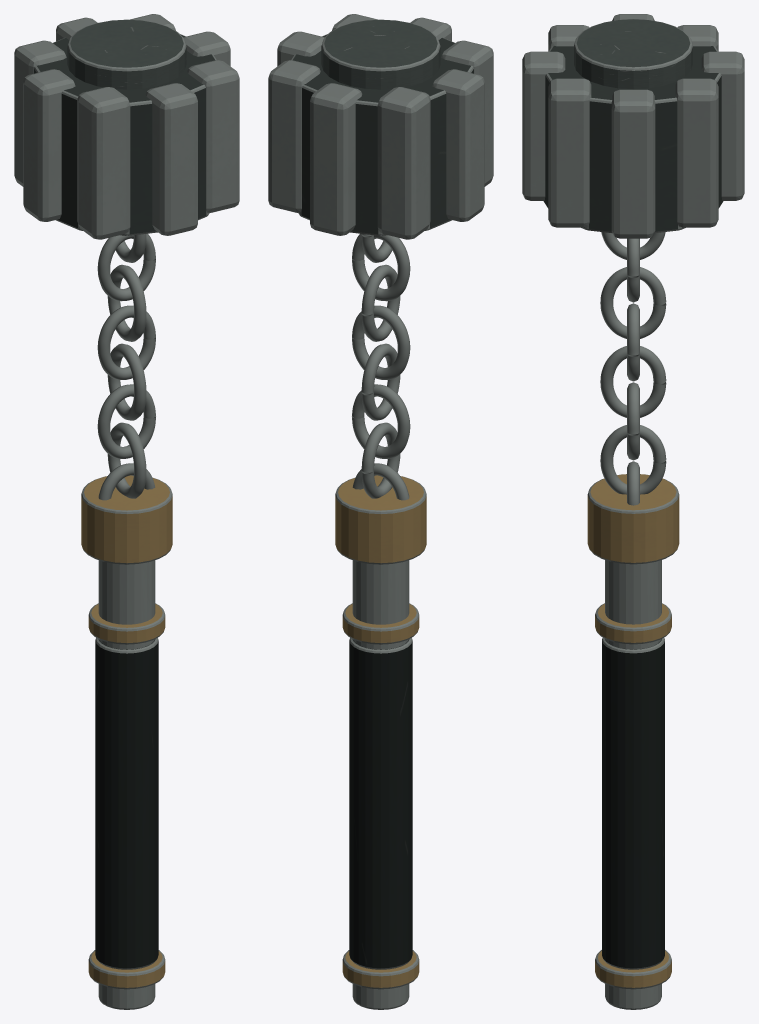
Rendered from flail-t4.glb.
The picture shows the model from 3 angles, left to right: view 1: azimuth 30°, elevation 25°; view 2: azimuth 150°, elevation 25°; view 3: azimuth 270°, elevation 25°; orthographic projection.
Visible parts, largest first — view 1: Continuous two-hand wrap, Flail core, Flail striking rib 5, Flail crown, Flail striking rib 6, Flail hinged collar, Flail striking rib 4, Flail striking rib 7, Steel shaft, Flail striking rib 3, Articulated chain link 2, Articulated chain link 4 (+9 smaller); view 2: Continuous two-hand wrap, Flail core, Flail striking rib 3, Flail crown, Flail striking rib 2, Flail hinged collar, Flail striking rib 4, Flail striking rib 1, Steel shaft, Flail striking rib 5, Articulated chain link 2, Articulated chain link 4 (+9 smaller); view 3: Continuous two-hand wrap, Flail core, Flail crown, Flail hinged collar, Flail striking rib 0, Flail striking rib 1, Flail striking rib 7, Steel shaft, Flail striking rib 2, Flail striking rib 6, Articulated chain link 3, Articulated chain link 5 (+10 smaller).
Boxes of the visible parts, <box> form: Continuous two-hand wrap: <box>95,637,158,969</box>; Flail core: <box>34,34,216,235</box>; Flail striking rib 5: <box>77,87,130,239</box>; Flail crown: <box>67,19,186,89</box>; Flail striking rib 6: <box>145,83,197,235</box>; Flail hinged collar: <box>81,475,172,564</box>; Flail striking rib 4: <box>23,69,75,221</box>; Flail striking rib 7: <box>187,60,239,212</box>; Steel shaft: <box>98,560,155,1009</box>; Flail striking rib 3: <box>14,40,66,186</box>; Articulated chain link 2: <box>97,384,155,458</box>; Articulated chain link 4: <box>97,305,155,379</box>; Continuous two-hand wrap: <box>349,637,412,969</box>; Flail core: <box>291,34,473,235</box>; Flail striking rib 3: <box>377,87,430,239</box>; Flail crown: <box>321,19,440,89</box>; Flail striking rib 2: <box>310,83,362,235</box>; Flail hinged collar: <box>335,475,426,564</box>; Flail striking rib 4: <box>432,69,484,221</box>; Flail striking rib 1: <box>268,60,320,212</box>; Steel shaft: <box>352,560,409,1009</box>; Flail striking rib 5: <box>441,40,493,186</box>; Articulated chain link 2: <box>352,384,410,458</box>; Articulated chain link 4: <box>352,305,410,379</box>; Continuous two-hand wrap: <box>602,638,664,969</box>; Flail core: <box>543,46,723,233</box>; Flail crown: <box>574,19,692,89</box>; Flail hinged collar: <box>587,474,679,564</box>; Flail striking rib 0: <box>611,89,655,238</box>; Flail striking rib 1: <box>675,78,718,227</box>; Flail striking rib 7: <box>548,78,591,227</box>; Steel shaft: <box>605,560,661,1009</box>; Flail striking rib 2: <box>701,51,744,200</box>; Flail striking rib 6: <box>522,51,565,200</box>; Articulated chain link 3: <box>600,346,666,417</box>; Articulated chain link 5: <box>600,267,666,338</box>.
Bounding box in the file's own units: 0.485 × 2.3 × 0.485.
5 materials, 5 textured.
